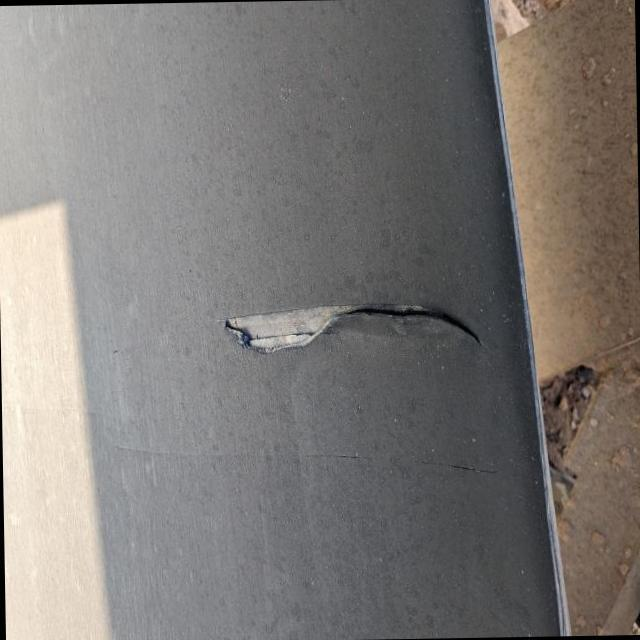Tear: (218, 284, 480, 388)
